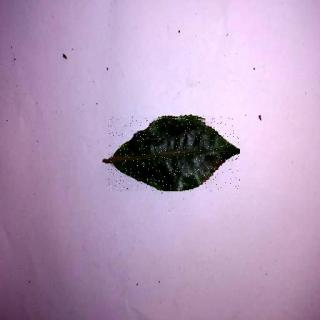Bird Eye Spot: (109, 117, 241, 192)
